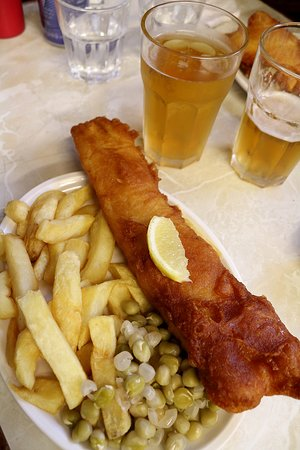boiled peas: (130, 351, 185, 430)
boiled potatoes: (38, 224, 91, 336)
